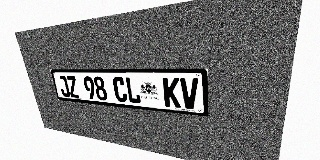8: (93, 76, 108, 101)
9: (82, 76, 97, 100)
C: (112, 77, 128, 103)
J: (57, 76, 71, 97)
K: (163, 77, 181, 108)
L: (125, 77, 141, 104)
V: (180, 78, 199, 109)
Z: (66, 76, 80, 98)
